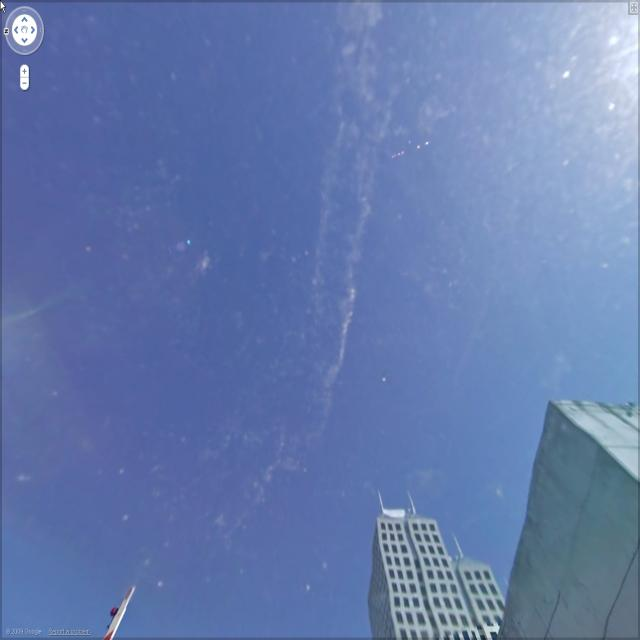b_1: (495, 396, 640, 632), (356, 484, 501, 640)
